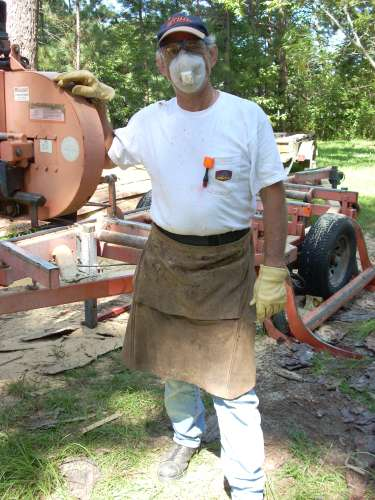noepi: (65, 16, 318, 495)
